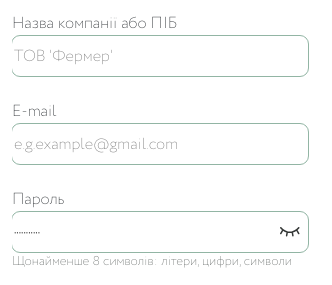
Test: SignUpSellerForm component tests › toggles password visibility on toggle button click
Click the button with id "togglePassword" at (290, 232), box [272,212,308,252]
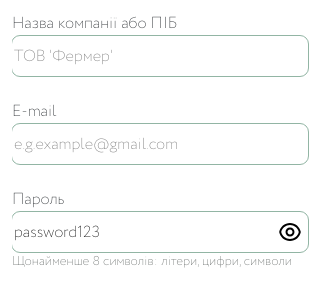
Expected: the field labelled "Пароль" shows its text, [12,212,272,252]
Click the button with id "togglePassword" at (290, 232), box [272,212,308,252]
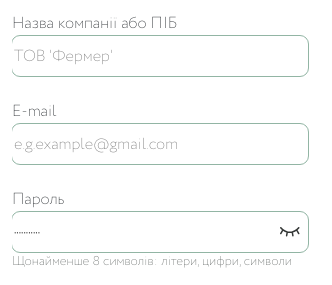
Expected: the password field labelled "Пароль" hides its text, [12,212,272,252]
